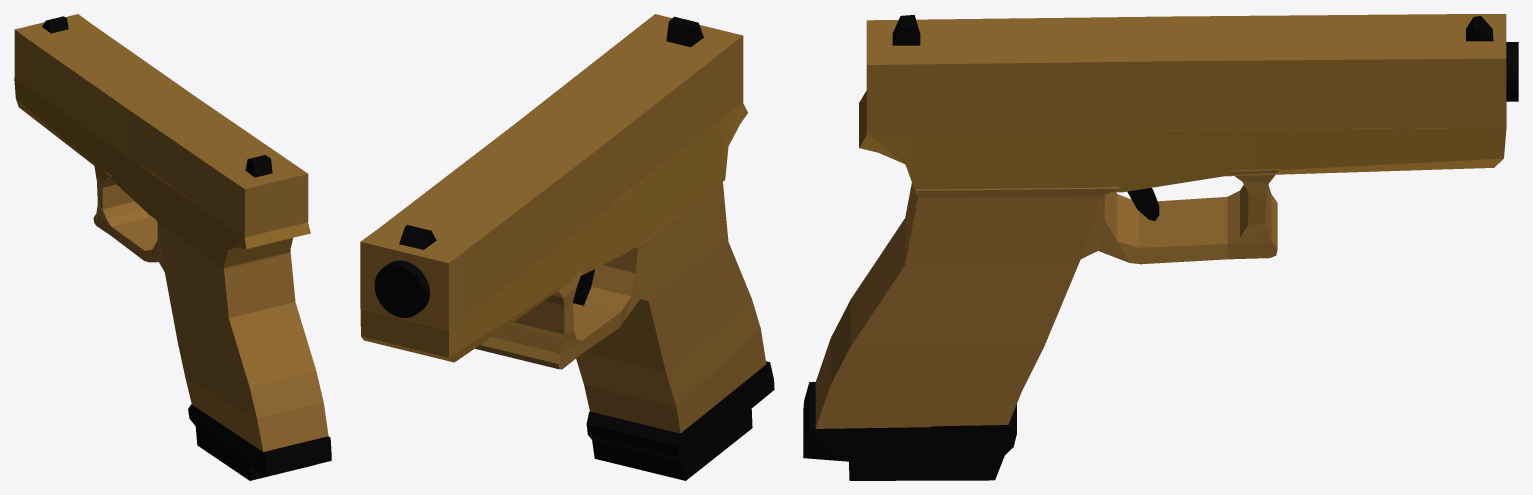
Rendered from Gun3.1.fbx.
3 renders of one model, left to right at view 1: azimuth 30°, elevation 25°; view 2: azimuth 150°, elevation 25°; view 3: azimuth 270°, elevation 25°, orthographic. The views are drawn at different scales.
Parts seen in each view (by area): view 1: Cube, Cube.002, Cube.001, Cube.006, Cube.003; view 2: Cube.002, Cube, Cube.001, Cube.006, Cylinder, Cube.003, Cube.004, Cube.005; view 3: Cube.002, Cube, Cube.001, Cube.006, Cylinder, Cube.003.
Part boxes in pixels (<box>): Cube: <box>93,165,328,451</box>; Cube.002: <box>14,14,308,237</box>; Cube.001: <box>14,77,310,268</box>; Cube.006: <box>188,404,331,480</box>; Cube.003: <box>245,155,272,177</box>; Cube.002: <box>360,14,743,329</box>; Cube: <box>475,182,766,433</box>; Cube.001: <box>360,103,747,362</box>; Cube.006: <box>586,361,774,480</box>; Cylinder: <box>374,260,429,317</box>; Cube.003: <box>666,16,703,47</box>; Cube.004: <box>399,225,436,249</box>; Cube.005: <box>573,269,594,305</box>; Cube.002: <box>866,14,1506,134</box>; Cube: <box>815,169,1279,428</box>; Cube.001: <box>859,91,1506,194</box>; Cube.006: <box>803,382,1016,480</box>; Cylinder: <box>1506,42,1518,101</box>; Cube.003: <box>892,15,920,45</box>.
Bounding box in the file's own units: 84.31 × 317 × 472.
